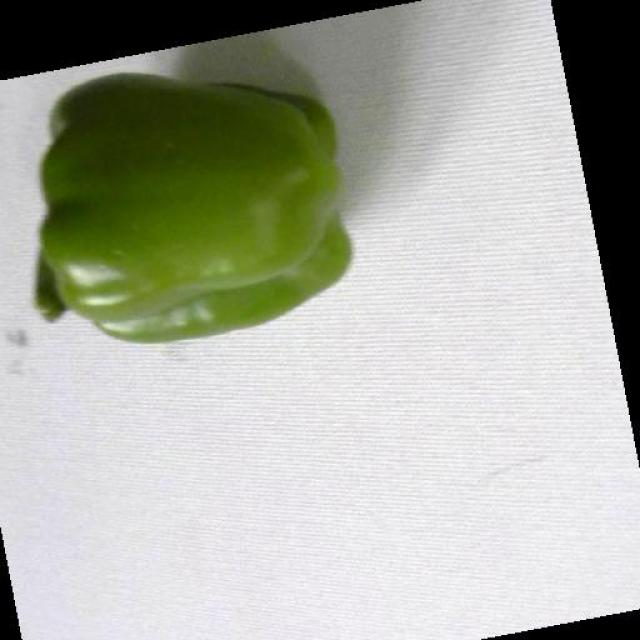Fresh_Capsicum: (26, 88, 342, 316)
